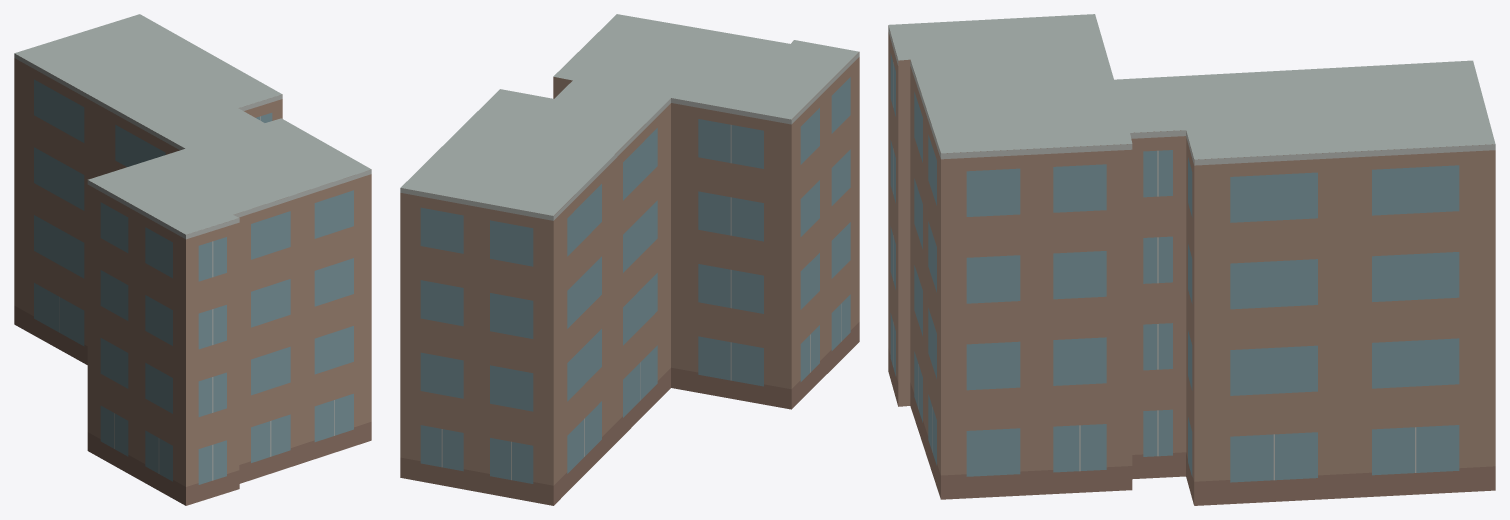
Rendered from survey-upis-32994889.glb.
3 views of the same model, side by side, from view 1: azimuth 30°, elevation 25°; view 2: azimuth 150°, elevation 25°; view 3: azimuth 270°, elevation 25° (orthographic). The views are drawn at different scales.
Visible parts, largest first — view 1: survey-upis-32994889.tmp; view 2: survey-upis-32994889.tmp; view 3: survey-upis-32994889.tmp.
Boxes of the visible parts, bbox=[...] form: survey-upis-32994889.tmp: bbox=[14, 14, 371, 505]; survey-upis-32994889.tmp: bbox=[400, 14, 859, 505]; survey-upis-32994889.tmp: bbox=[888, 14, 1495, 505].
Bounding box in the file's own units: 12.91 × 14.3 × 22.74.
